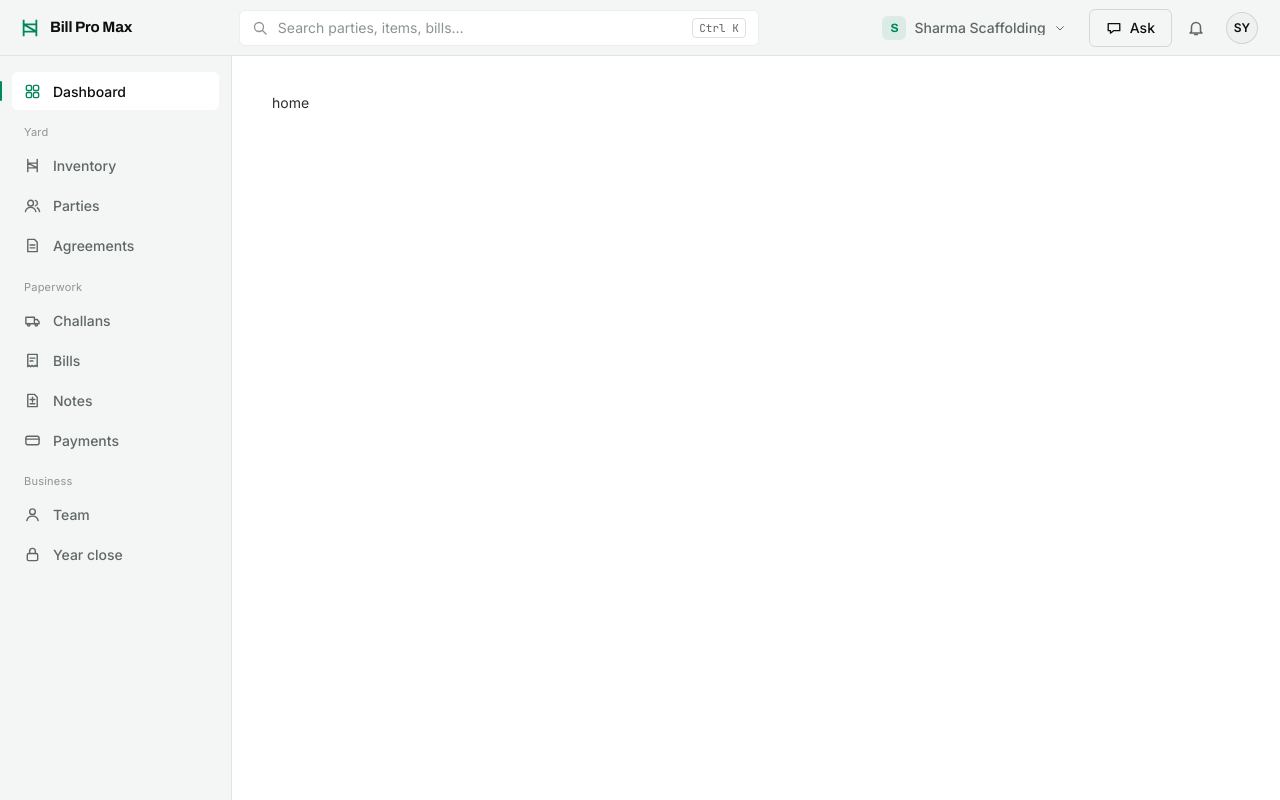
Test: Layout › opens the profile menu and logs out
Later steps or results of the test are not shown.
Click the button with aria-label "Account". click: [1242, 28]
box: [1224,10,1260,46]
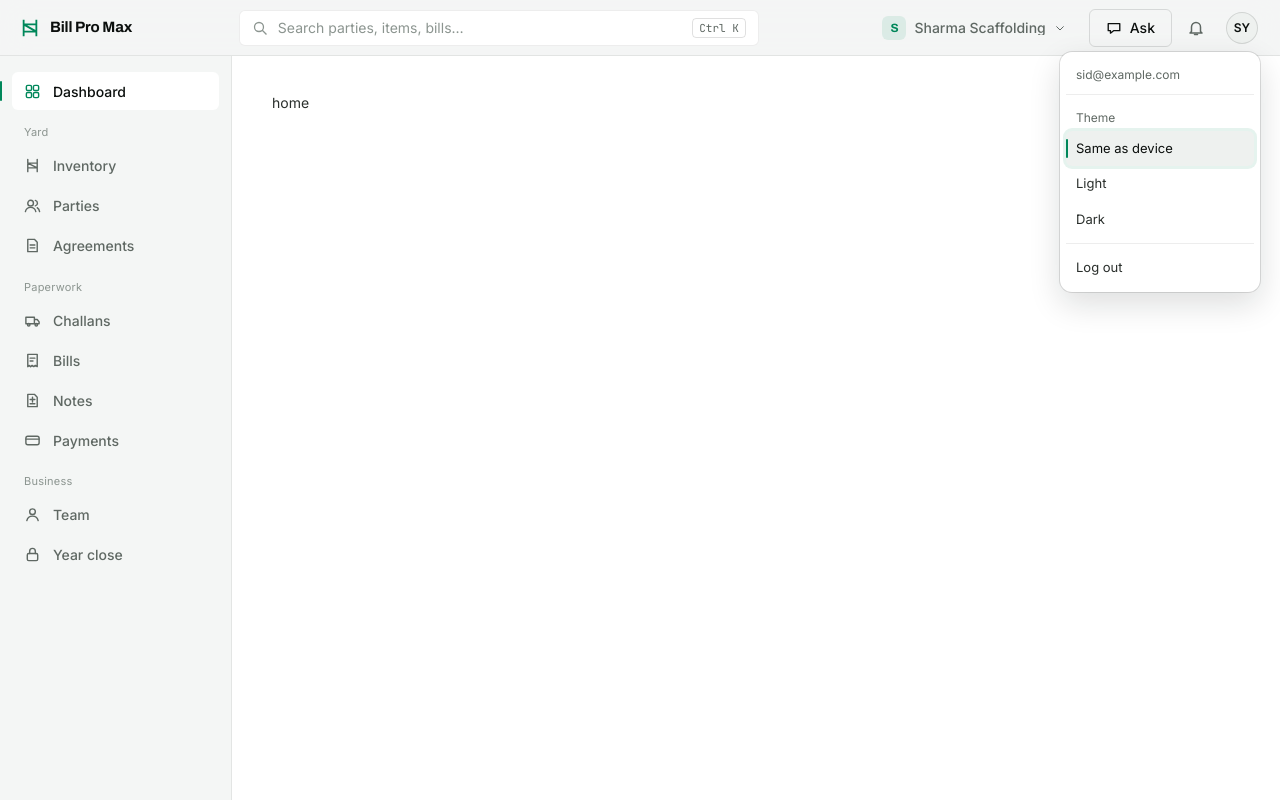
Now the text "sid@example.com" is shown, box [1076,66,1180,82]
